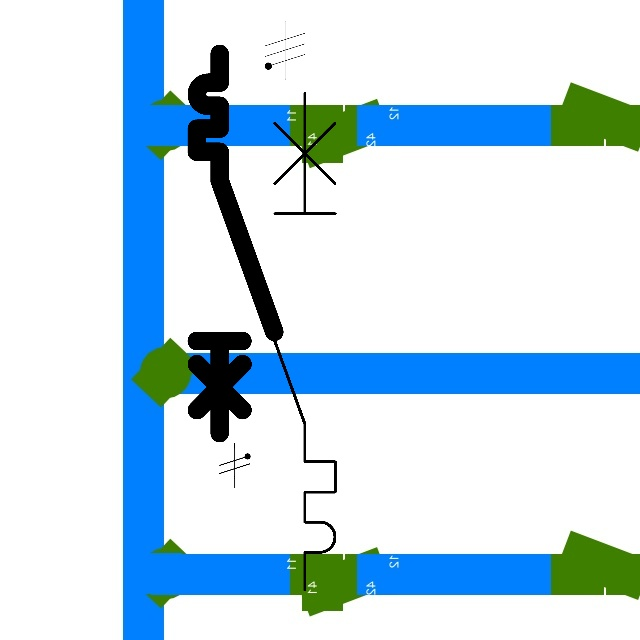interruptor_termomagnetico: (220, 80, 348, 603), (187, 44, 284, 442)
